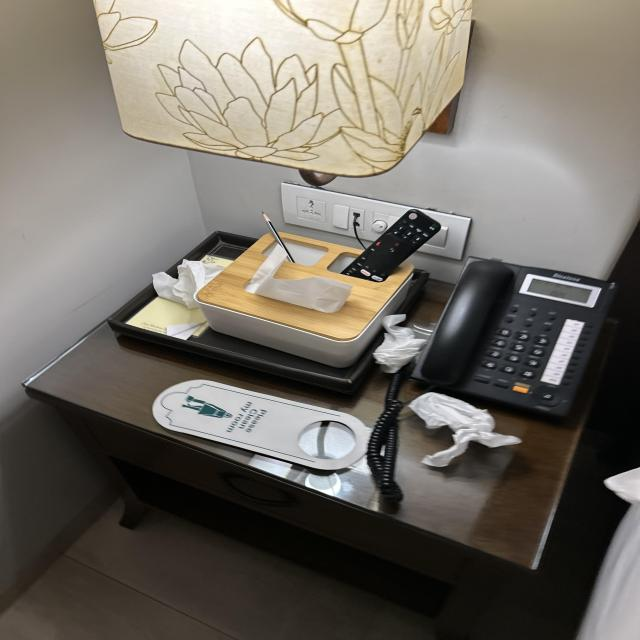mess: (30, 198, 610, 602)
